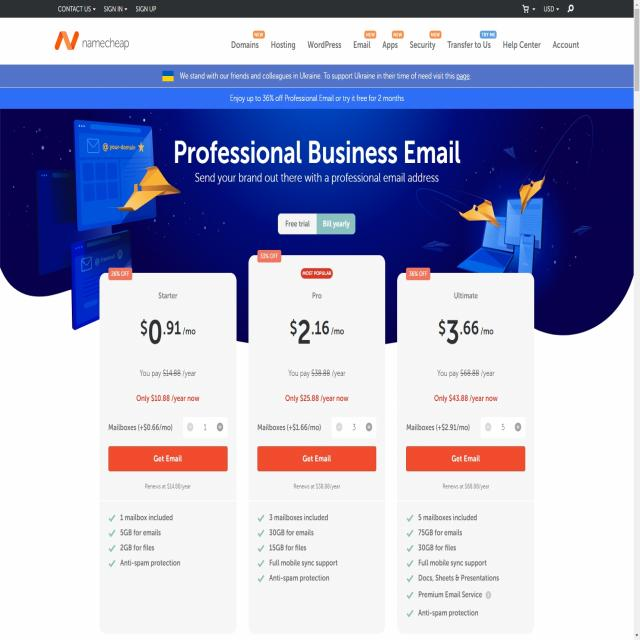menu-bar: (224, 21, 582, 59), (54, 1, 162, 19)
menu-panel: (274, 209, 358, 237)
